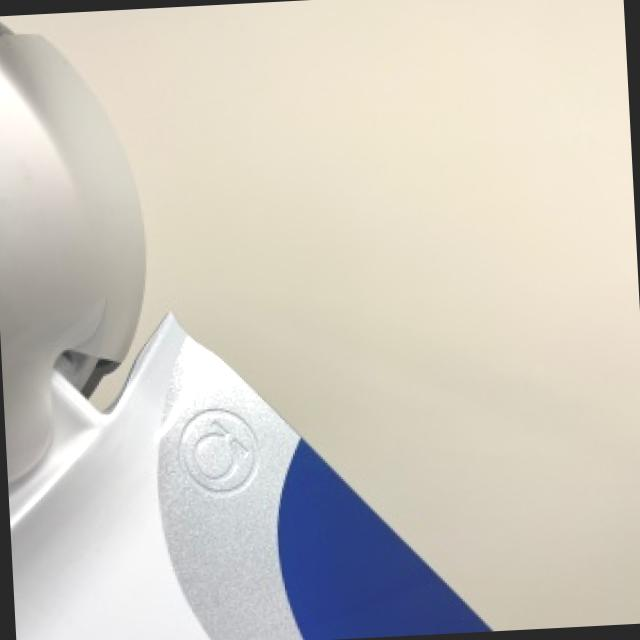healthy: (0, 26, 488, 640)
